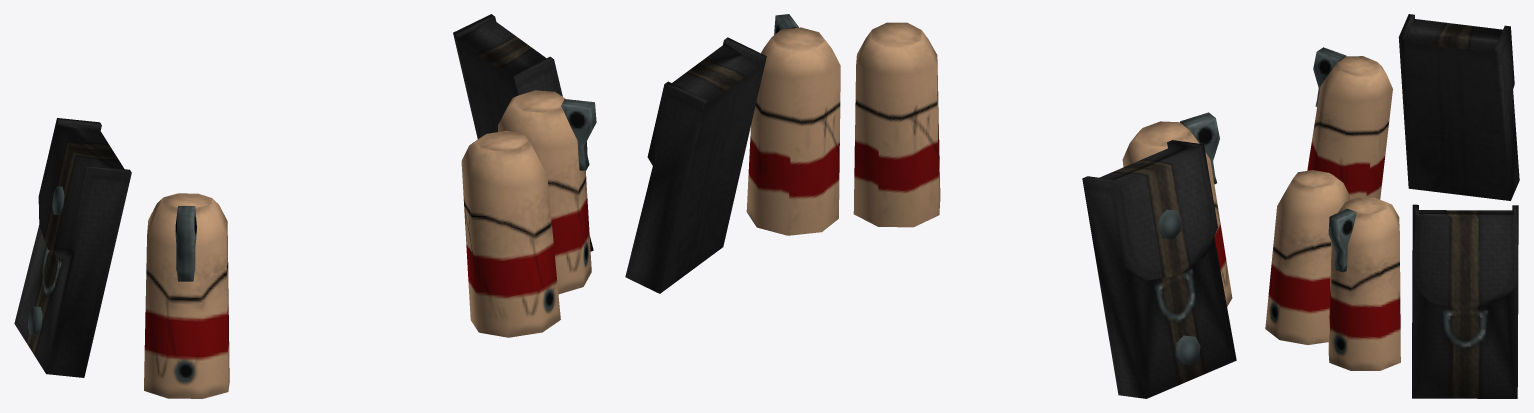
Rendered from acess.dae.
3 views of the same model, side by side, from view 1: azimuth 30°, elevation 25°; view 2: azimuth 150°, elevation 25°; view 3: azimuth 270°, elevation 25° (orthographic). The views are drawn at different scales.
Visible parts, largest first — view 1: acess; view 2: acess; view 3: acess.
Part boxes in pixels (x1,y1,x2,y2): acess: (14,14,596,398); acess: (625,14,1236,398); acess: (1265,14,1519,398).
Bounding box in the file's own units: 1.41 × 0.6721 × 0.5326.
Materials: 1 (1 with a texture image).
